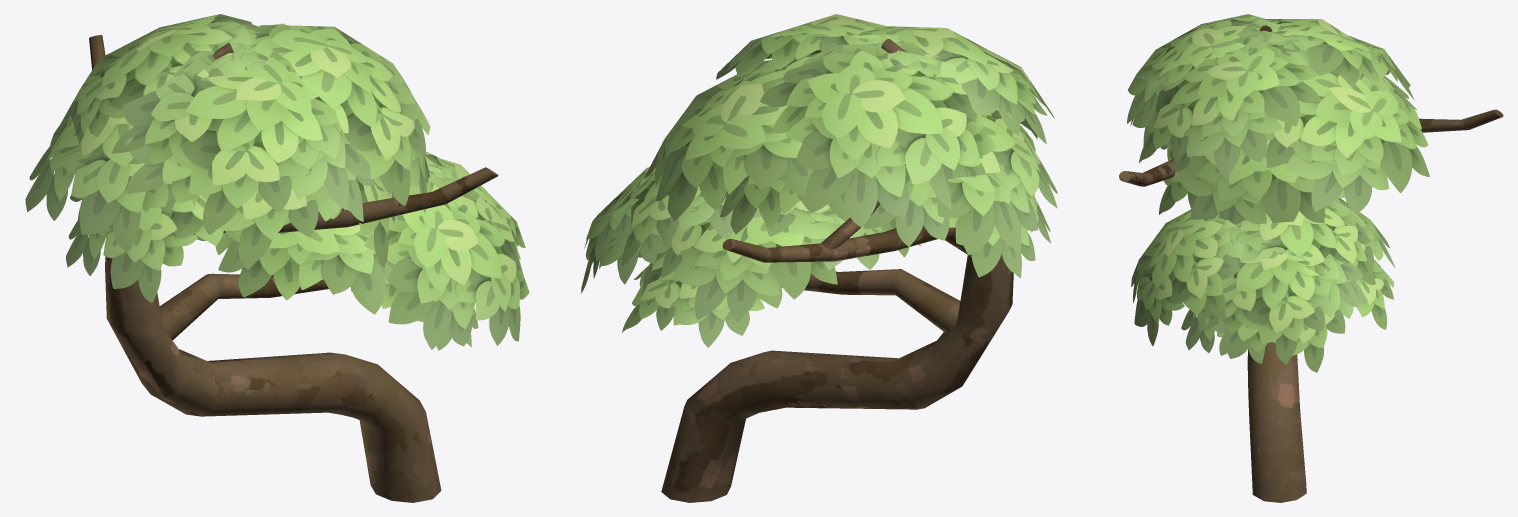
Rendered from tree_10.glb.
3 renders of one model, left to right at view 1: azimuth 30°, elevation 25°; view 2: azimuth 150°, elevation 25°; view 3: azimuth 270°, elevation 25°, orthographic. The views are drawn at different scales.
Parts seen in each view (by area): view 1: Tree_10; view 2: Tree_10; view 3: Tree_10.
Part boxes in pixels (box(x1,y1,x2,y2)): Tree_10: box(25, 14, 529, 502); Tree_10: box(581, 14, 1057, 502); Tree_10: box(1119, 14, 1503, 502).
Bounding box in the file's own units: 4.28 × 4.35 × 3.98.
Materials: 2 (2 with a texture image).
